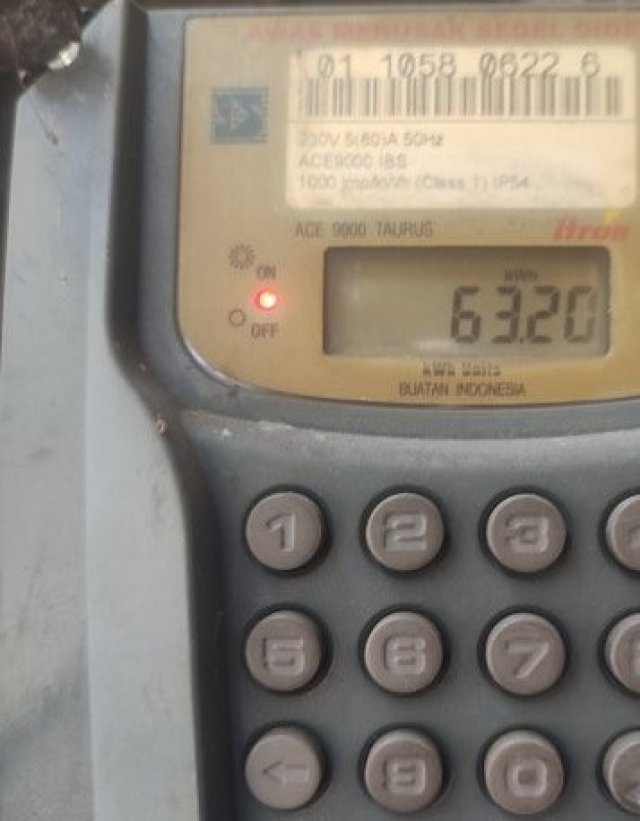box: (324, 246, 610, 361)
